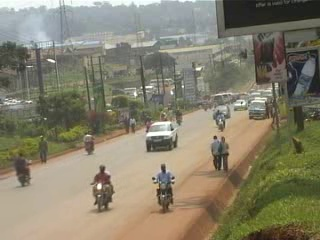Car: (211, 104, 233, 120), (233, 99, 249, 112)
Motorcycle: (149, 175, 179, 214), (91, 180, 116, 215), (15, 159, 35, 189), (83, 138, 96, 157), (214, 114, 227, 133), (173, 114, 184, 128)
